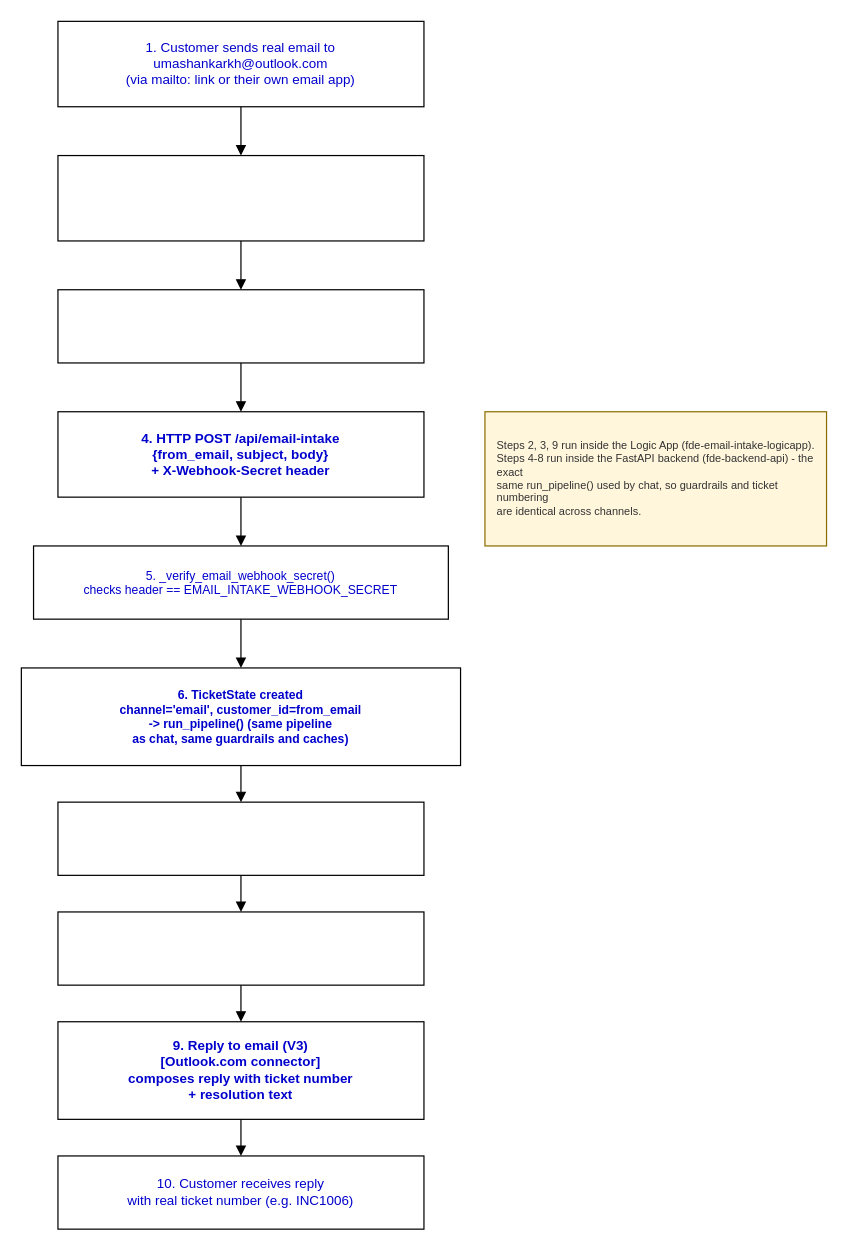
Some shapes in this 848 by 1251 pixel diagram are drawn without their labels. Each missing label, with the centre of its shape:
"2. Logic App trigger: When a new email arrives (V2) [Outlook.com connector]" belongs at [240,197].
"3. HTML to text (strip formatting from Body)" belongs at [240,326].
"7. Response: {ticket_number, resolution, reply_subject, ...}" belongs at [240,838].
"8. Parse JSON (extract ticket_number, resolution)" belongs at [240,948].
